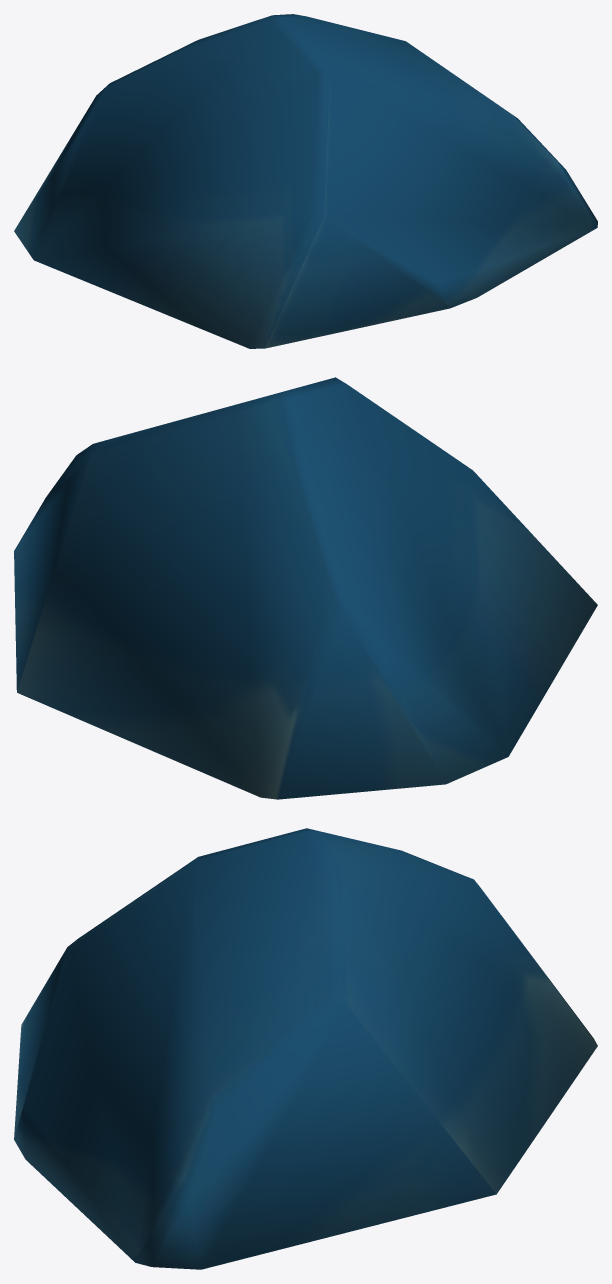
Rendered from rock2.fbx.
The picture shows the model from 3 angles, top to bottom: view 1: azimuth 30°, elevation 25°; view 2: azimuth 150°, elevation 25°; view 3: azimuth 270°, elevation 25°; orthographic projection. The views are drawn at different scales.
Parts seen in each view (by area): view 1: Rock02; view 2: Rock02; view 3: Rock02.
Part boxes in pixels (left/top/right/bottom): Rock02: left=14, top=14, right=597, bottom=348; Rock02: left=14, top=377, right=597, bottom=799; Rock02: left=14, top=828, right=597, bottom=1269.
Size of the model in its own units: 1.42 by 0.6368 by 1.21.
